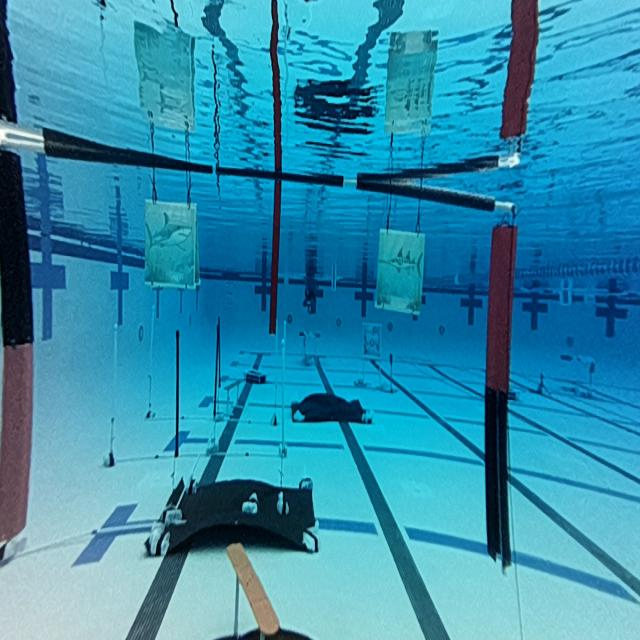pointed_nose: (376, 225, 426, 314)
round_nose: (140, 198, 199, 300)
